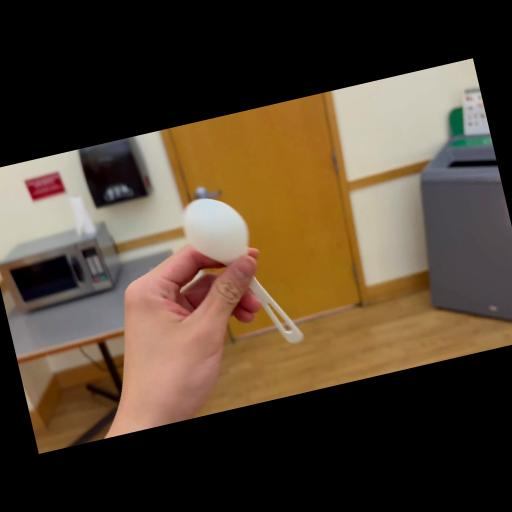utensil: (170, 177, 310, 367)
